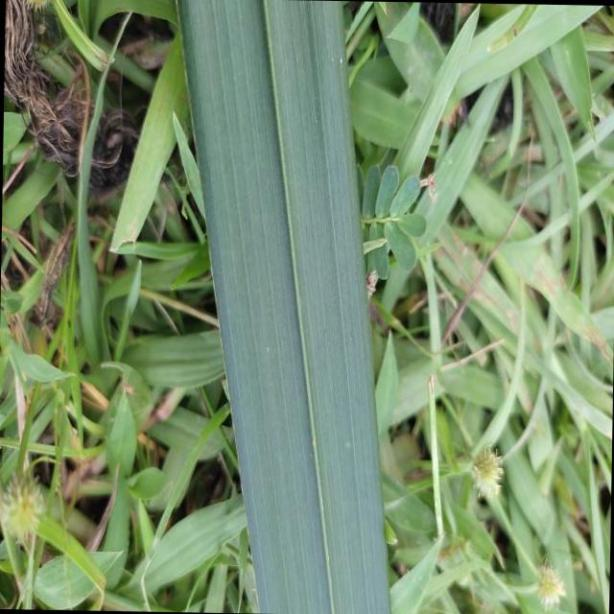Healthy: (176, 0, 393, 614)
